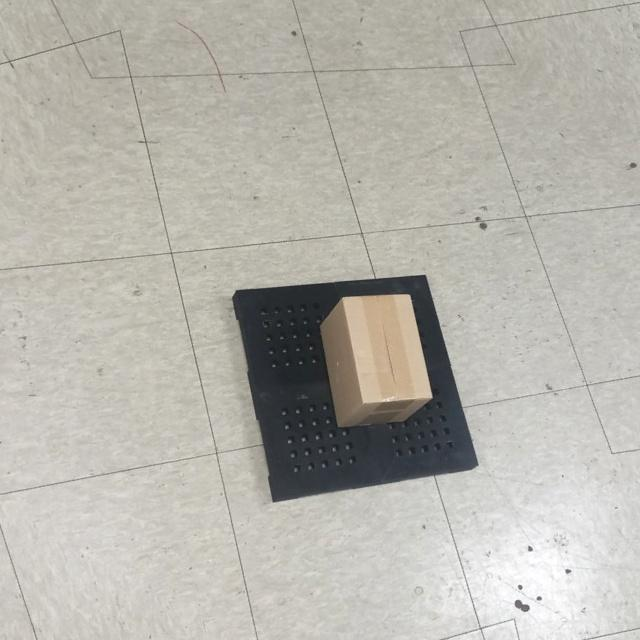box: (317, 283, 438, 433)
pallet: (228, 269, 480, 501)
